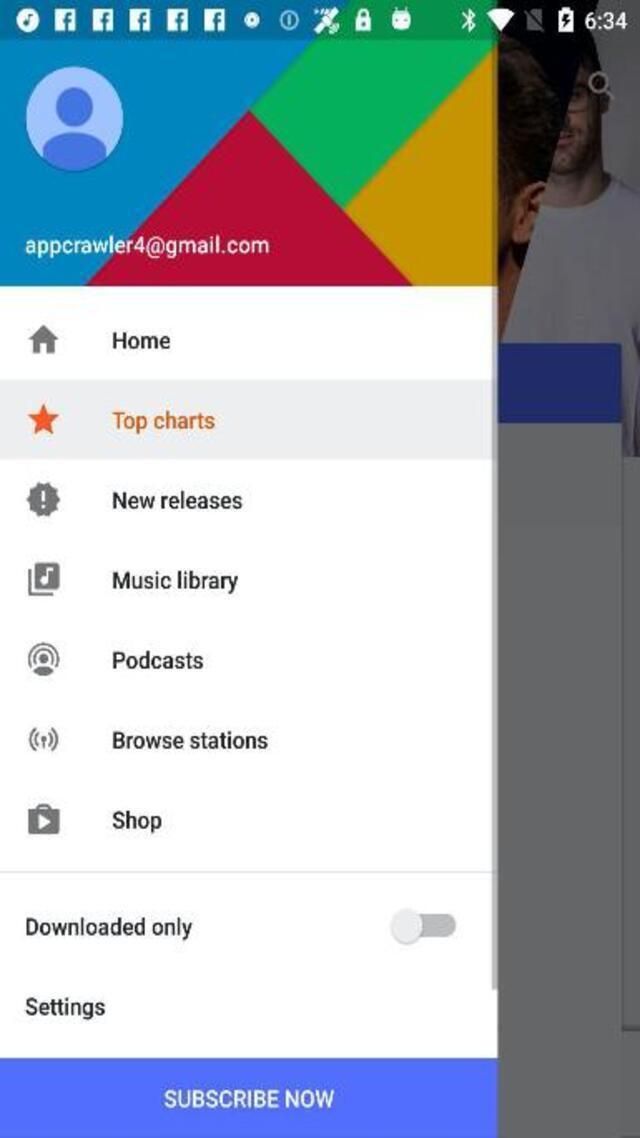Icon: (26, 66, 124, 172), (26, 482, 60, 518), (27, 562, 59, 596), (27, 643, 59, 676), (27, 402, 59, 434), (27, 803, 59, 833), (27, 324, 59, 354), (588, 70, 616, 100), (28, 726, 58, 750)
Text: (26, 234, 270, 260), (160, 1085, 335, 1112), (26, 916, 192, 940), (114, 570, 238, 593), (114, 730, 268, 748), (112, 410, 215, 433), (113, 491, 243, 508), (25, 996, 105, 1020), (113, 650, 203, 670), (112, 810, 162, 833), (113, 330, 170, 348)
TextButton: (1, 1058, 498, 1136)
